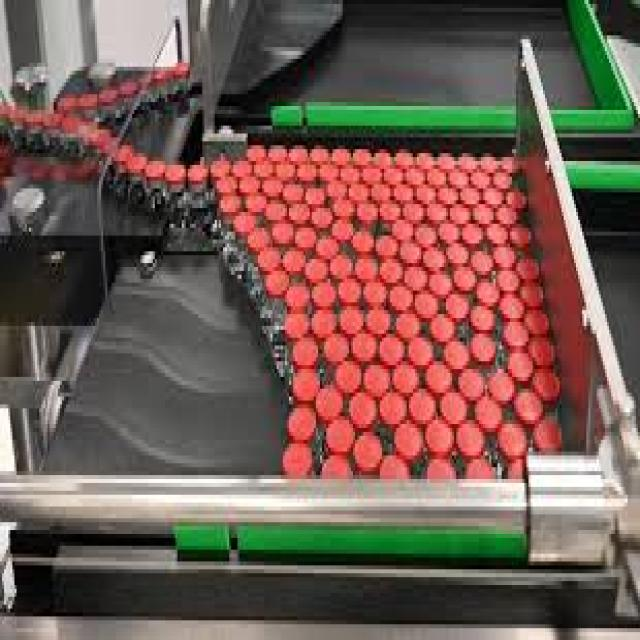vial: (536, 374, 566, 404), (439, 393, 468, 422), (510, 350, 536, 382), (499, 422, 526, 452), (352, 333, 377, 364), (521, 386, 545, 418), (336, 362, 361, 392), (356, 437, 379, 469), (459, 430, 488, 455), (352, 393, 377, 422), (289, 412, 318, 436), (328, 419, 354, 445), (398, 427, 422, 455), (412, 392, 435, 421), (364, 364, 390, 389), (520, 285, 544, 312), (324, 455, 351, 479), (410, 337, 433, 365), (318, 388, 340, 416), (295, 372, 317, 400), (285, 441, 310, 465), (427, 367, 451, 392), (428, 425, 451, 451), (431, 310, 453, 337), (396, 365, 418, 392), (471, 336, 494, 361), (382, 335, 403, 361), (540, 425, 560, 452), (384, 397, 406, 421), (420, 295, 440, 321), (463, 372, 483, 398), (502, 298, 524, 321), (449, 296, 472, 318), (408, 262, 424, 293), (327, 337, 348, 360), (294, 339, 314, 363), (466, 459, 494, 476), (446, 341, 464, 367), (527, 311, 548, 333), (393, 286, 412, 310), (480, 401, 498, 426), (381, 460, 409, 476), (499, 270, 519, 292), (517, 259, 539, 279), (470, 249, 490, 271), (358, 256, 378, 278), (370, 308, 390, 330), (344, 309, 366, 329), (339, 280, 361, 300), (212, 162, 234, 182), (399, 314, 417, 338), (472, 207, 492, 228), (428, 461, 456, 476), (334, 257, 354, 278), (314, 312, 334, 333), (285, 315, 305, 336), (472, 310, 494, 329), (334, 218, 353, 240), (318, 239, 340, 258), (494, 246, 514, 266), (382, 265, 402, 285), (359, 203, 379, 223), (314, 284, 334, 304), (487, 185, 504, 208), (247, 195, 270, 212), (365, 282, 384, 302), (305, 186, 325, 205), (285, 248, 303, 269), (333, 200, 355, 217), (274, 224, 296, 241), (463, 225, 482, 244), (514, 228, 532, 248), (376, 237, 396, 255), (288, 286, 306, 306), (238, 177, 261, 192), (269, 144, 287, 163), (251, 231, 270, 249), (506, 329, 526, 346), (480, 285, 497, 305), (270, 274, 290, 291), (432, 272, 448, 293), (259, 253, 283, 267), (418, 223, 433, 245), (507, 458, 522, 480), (496, 371, 509, 396), (190, 165, 208, 183), (374, 185, 393, 202), (403, 242, 420, 261), (441, 224, 457, 244), (309, 259, 325, 279), (530, 344, 548, 361), (452, 205, 469, 223), (426, 248, 444, 265), (365, 165, 383, 182), (329, 181, 347, 198), (314, 207, 331, 225), (298, 230, 316, 247), (491, 226, 507, 245), (354, 234, 373, 250), (233, 159, 253, 174), (234, 216, 254, 231), (407, 205, 424, 222), (341, 165, 358, 182), (320, 162, 338, 178), (290, 205, 308, 221), (270, 204, 288, 220), (276, 160, 294, 176), (417, 152, 433, 169), (430, 204, 446, 221), (450, 247, 466, 264), (351, 184, 368, 200), (511, 192, 526, 210), (284, 184, 302, 199), (482, 154, 496, 173), (216, 178, 235, 192), (496, 168, 511, 185), (463, 155, 478, 172), (266, 179, 283, 194), (15, 161, 30, 178), (419, 183, 433, 201), (458, 270, 472, 288), (500, 208, 513, 227), (220, 197, 239, 210), (399, 187, 415, 202), (385, 206, 402, 220), (147, 163, 162, 178), (475, 171, 489, 187), (430, 169, 444, 185), (408, 167, 422, 183), (388, 168, 402, 184), (168, 170, 184, 184), (451, 171, 465, 186), (291, 146, 306, 160), (504, 152, 517, 168), (376, 151, 392, 164), (51, 167, 67, 180), (394, 226, 411, 238), (42, 110, 53, 128), (74, 162, 88, 176), (333, 146, 346, 161), (465, 187, 477, 203), (26, 112, 39, 126), (394, 152, 409, 164), (299, 166, 314, 178), (8, 109, 20, 124), (126, 160, 142, 171), (114, 150, 130, 161), (251, 146, 264, 159), (257, 161, 271, 173), (441, 153, 451, 169), (355, 150, 368, 162), (99, 136, 113, 147), (3, 157, 12, 174), (444, 191, 454, 205), (64, 100, 78, 110), (151, 70, 164, 80), (173, 68, 186, 78), (80, 99, 97, 106), (32, 164, 44, 173), (69, 122, 82, 130), (99, 94, 116, 100), (314, 150, 324, 160), (56, 120, 67, 128), (118, 88, 131, 93), (130, 82, 146, 86), (92, 161, 100, 167)
